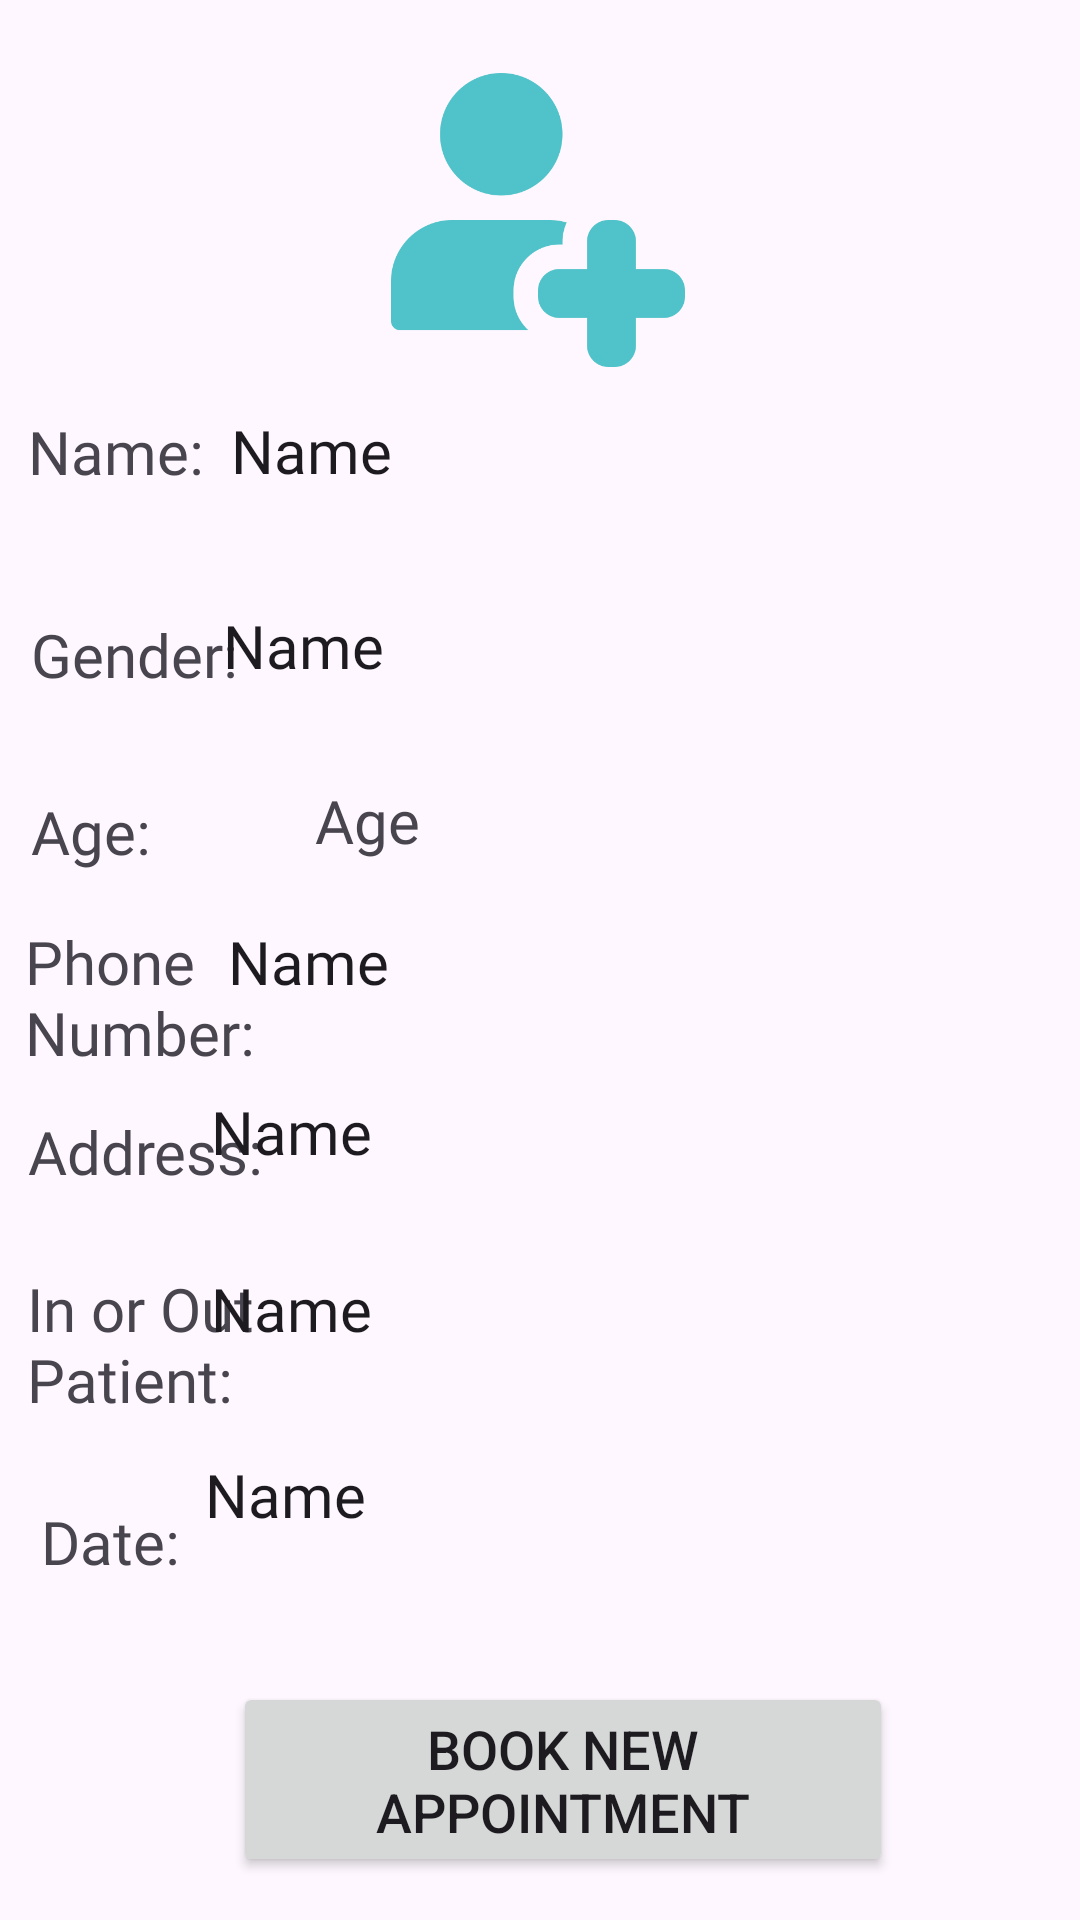

Screen size 1080x1920. Icon name, then its box in pixels as (x1=x1, y1=y1, x2=x2, y2=y2):
patient: (x1=391, y1=73, x2=685, y2=367)
